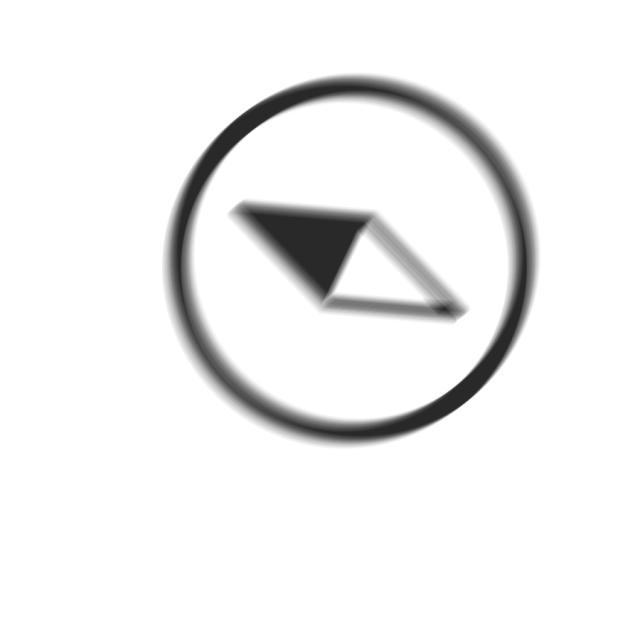compass: (157, 72, 545, 457)
